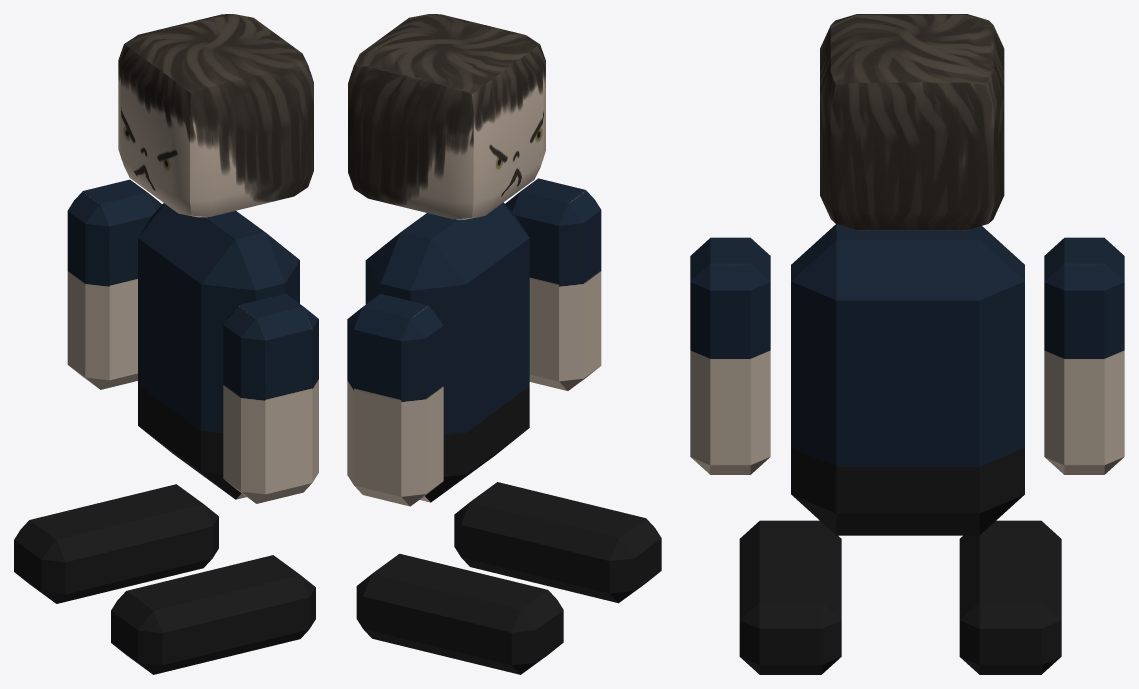
File: SURVIVOR-C.fbx
3 renders of one model, left to right at view 1: azimuth 30°, elevation 25°; view 2: azimuth 150°, elevation 25°; view 3: azimuth 270°, elevation 25°, orthographic. The views are drawn at different scales.
Parts seen in each view (by area): view 1: Head1, Body1, Left_Foot4, Left_Foot2, Left_Foot1, Left_Foot3; view 2: Head1, Body1, Left_Foot3, Left_Foot2, Left_Foot1, Left_Foot4; view 3: Body1, Head1, Left_Foot3, Left_Foot4, Left_Foot1, Left_Foot2.
Part boxes in pixels (x1,y1,x2,y2): Head1: (118,14,313,217); Body1: (138,203,299,499); Left_Foot4: (223,293,318,503); Left_Foot2: (14,484,218,603); Left_Foot1: (111,555,315,674); Left_Foot3: (67,179,162,389); Head1: (348,14,545,219); Body1: (365,202,529,502); Left_Foot3: (347,294,443,506); Left_Foot2: (356,553,563,674); Left_Foot1: (454,482,661,603); Left_Foot4: (505,178,601,390); Body1: (791,224,1024,535); Head1: (820,14,1004,230); Left_Foot3: (1044,237,1124,474); Left_Foot4: (690,237,770,474); Left_Foot1: (739,520,841,674); Left_Foot2: (959,520,1061,674).
Bounding box in the file's own units: 1.53 × 3.75 × 2.36.
